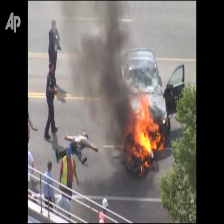fire_h: (124, 88, 167, 160)
fire_l: (140, 161, 150, 172)
